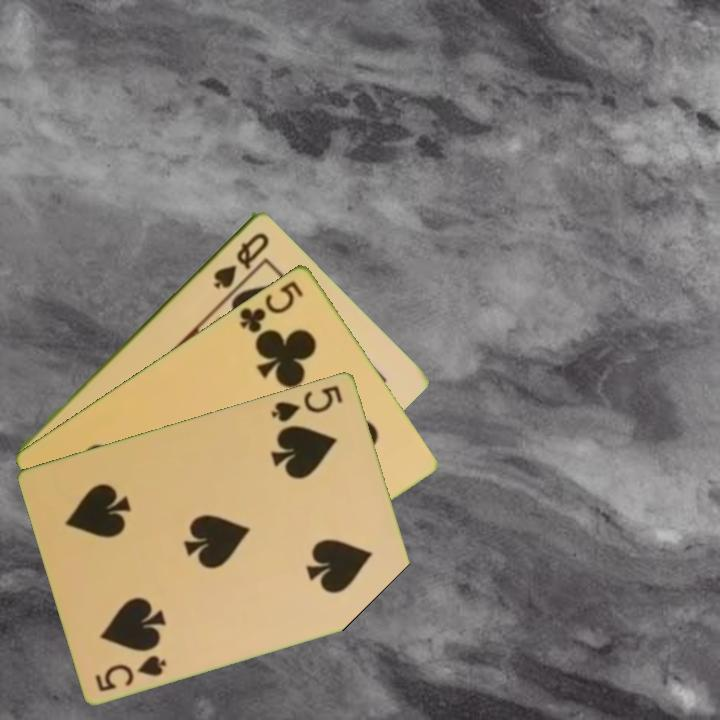5c: (236, 277, 307, 336)
5s: (268, 381, 346, 425), (92, 651, 170, 694)
Qs: (210, 228, 273, 291)
